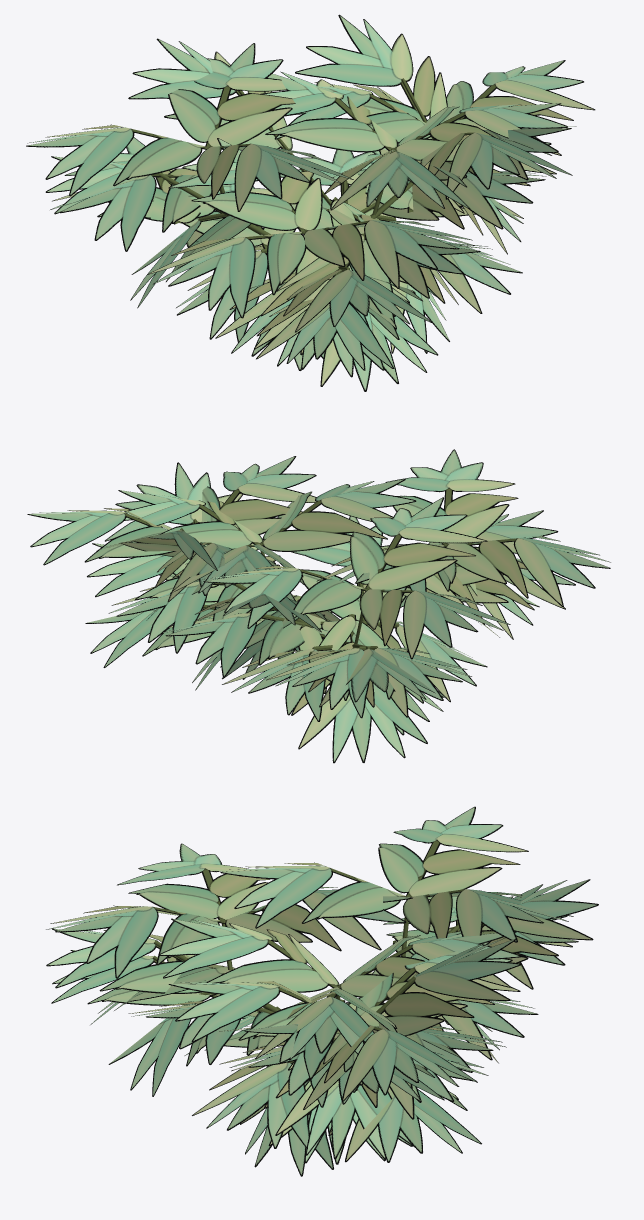
The model's file is leechgrass.gltf.
The picture shows the model from 3 angles, top to bottom: view 1: azimuth 30°, elevation 25°; view 2: azimuth 150°, elevation 25°; view 3: azimuth 270°, elevation 25°; orthographic projection. The views are drawn at different scales.
Visible parts, largest first — view 1: leaves, bark; view 2: leaves, bark; view 3: leaves, bark.
Boxes of the visible parts, x1,y1,x2,y2 form: leaves: (26, 14, 595, 391); bark: (152, 78, 433, 275); leaves: (27, 449, 610, 763); bark: (180, 519, 445, 649); leaves: (46, 806, 598, 1176); bark: (152, 917, 459, 1062).
Bounding box in the file's own units: 1.35 × 0.5705 × 1.25.
Materials: 2 (1 with a texture image).
